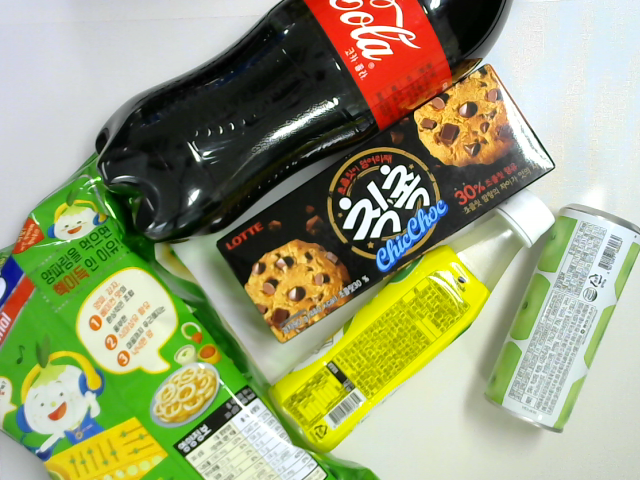Chicchok_Original_2400: (216, 61, 556, 345)
Coca_Cola_1.5L: (94, 1, 515, 245)
Demisoda_Apple_Can_250ml: (483, 204, 640, 435)
Oninon_Ring: (1, 148, 379, 480)
Sunkist_Lemonaid_Pet: (266, 186, 557, 456)
